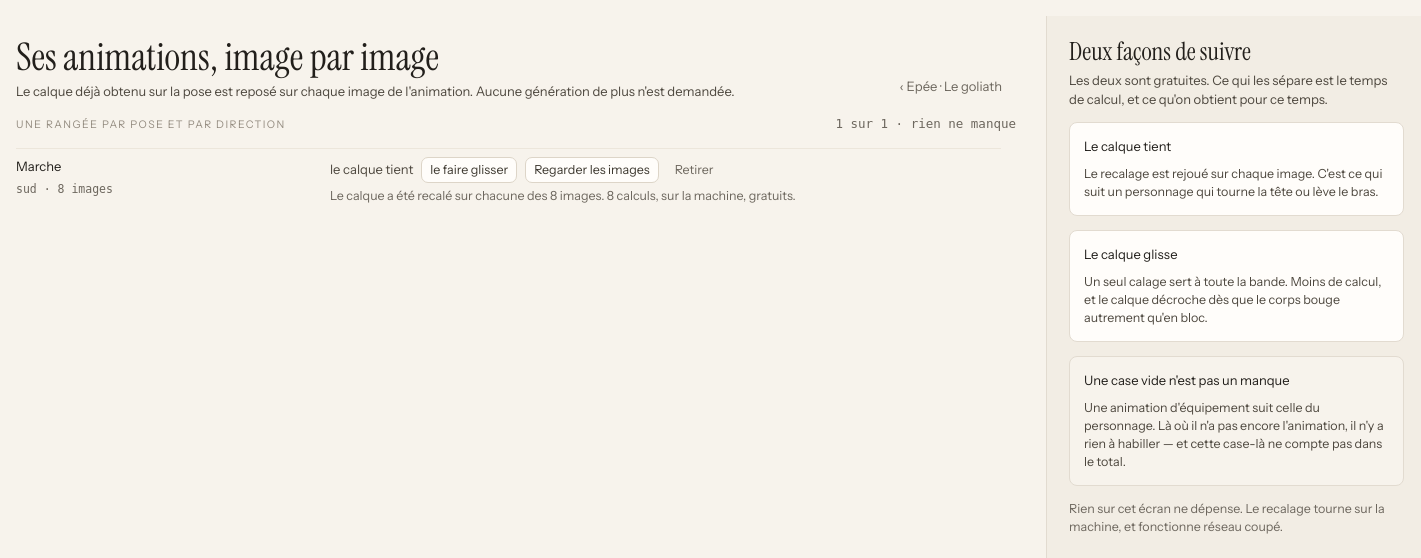
Test: regarder les images habillées › un refus se dit à l'écran, et rien ne s'ouvre
The width and height of the screenshot is (1421, 558).
(page scrolled)
Step 1. Click the button "Regarder les images" → point(592, 170), box left=525, top=157, right=659, bottom=183
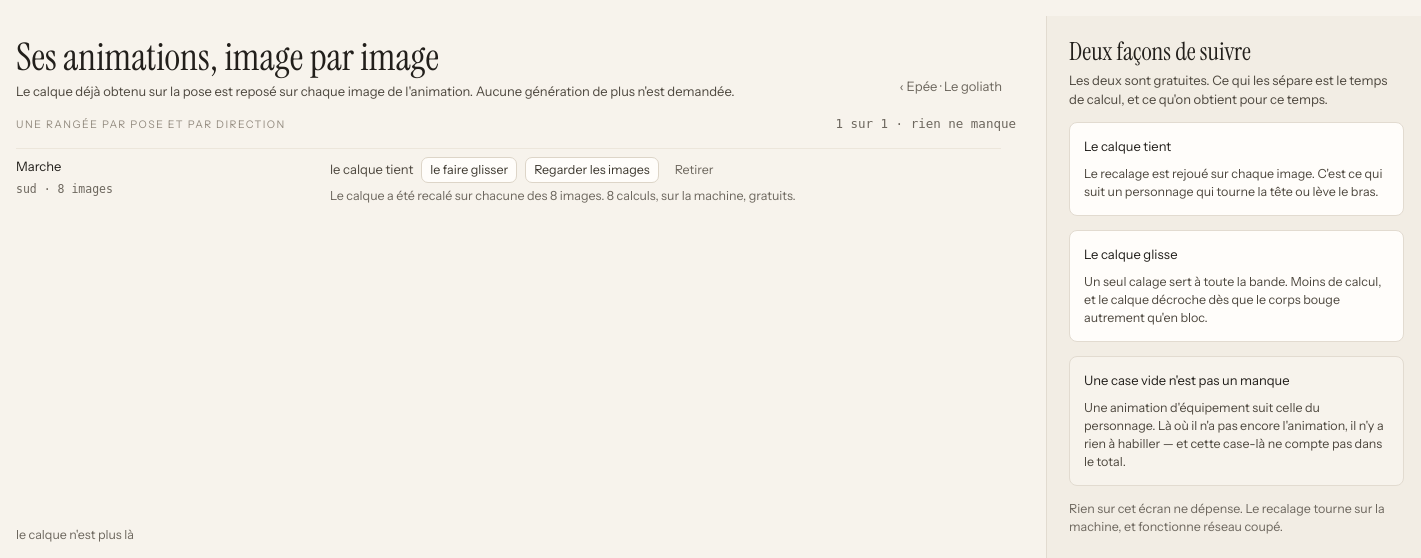
expect the text "le calque n'est plus là" is shown: met, box left=16, top=527, right=134, bottom=542
